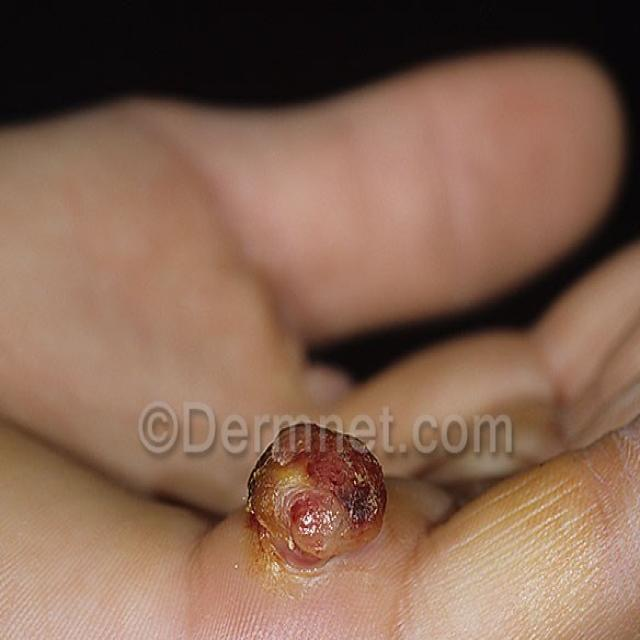Vascular Tumors: (218, 420, 423, 576)
